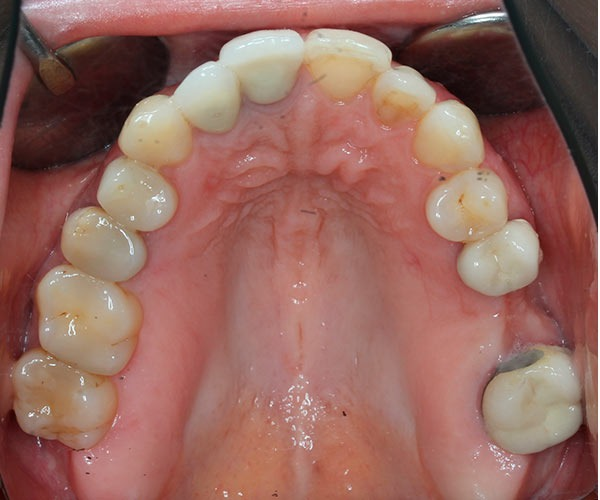UL1BC_decay: (427, 169, 508, 240)
UL1M_decay: (477, 297, 553, 347)
UL2BC_healthy: (460, 221, 538, 297)
UL2M_decay: (481, 349, 581, 453)
ULCI_healthy: (305, 28, 391, 99)
ULC_healthy: (417, 99, 483, 166)
ULLI_healthy: (377, 66, 433, 126)
UR1BC_healthy: (98, 160, 176, 228)
UR1M_decay: (39, 266, 138, 371)
UR2BC_healthy: (63, 207, 143, 281)
UR2M_decay: (14, 351, 113, 446)
URCI_healthy: (220, 30, 303, 103)
URC_healthy: (121, 96, 191, 164)
URLI_healthy: (179, 61, 238, 132)
